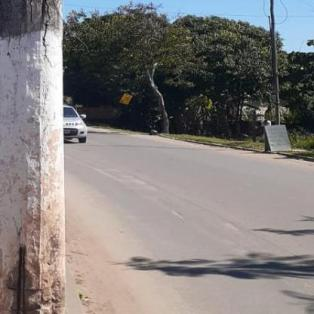Poste: (0, 0, 91, 314)
